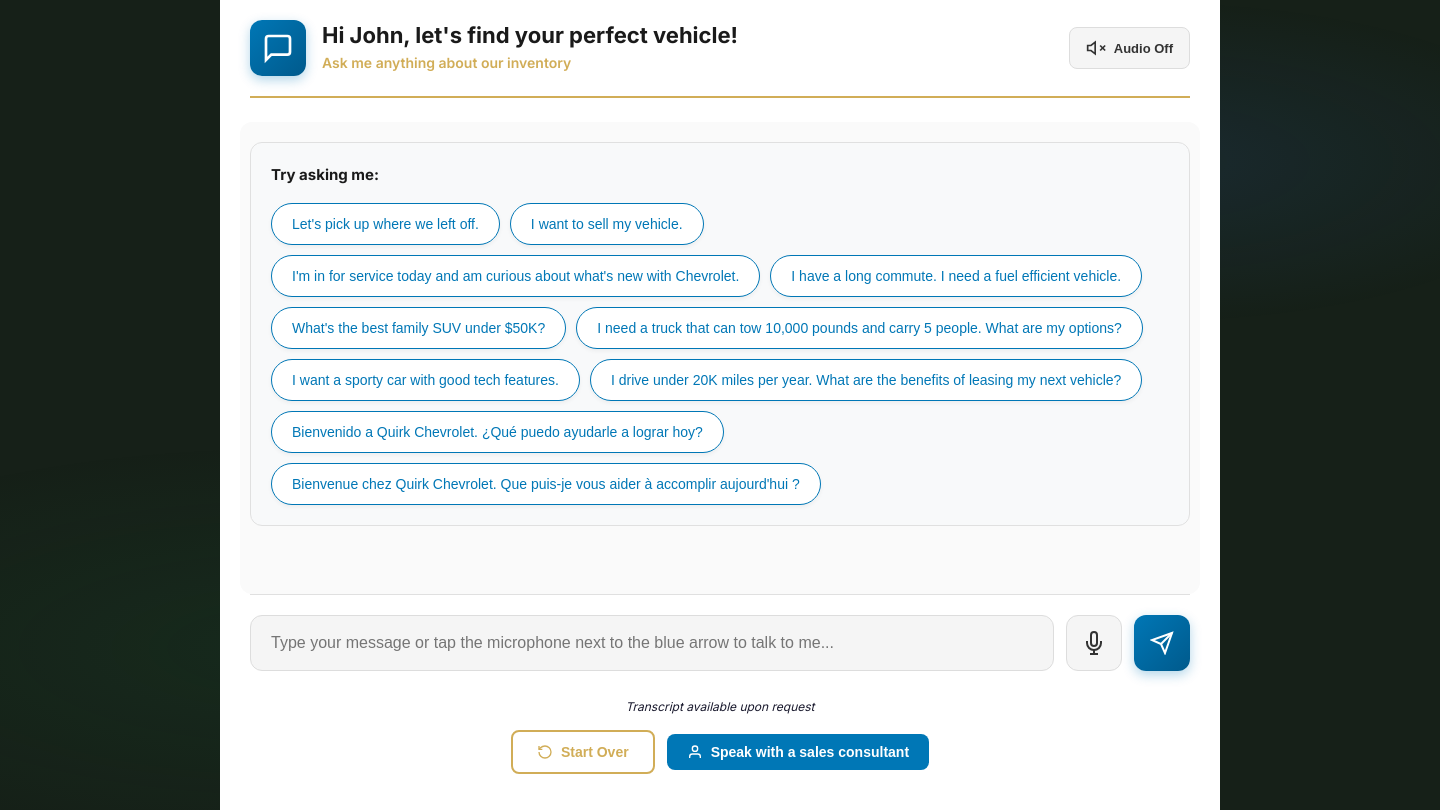
Test case: AIAssistant Component › Loading State › shows loading indicator while waiting for response
Replace the text in the field with placeholder "Type your message" with "Show me trucks": (652, 643) [250,615,1054,671]
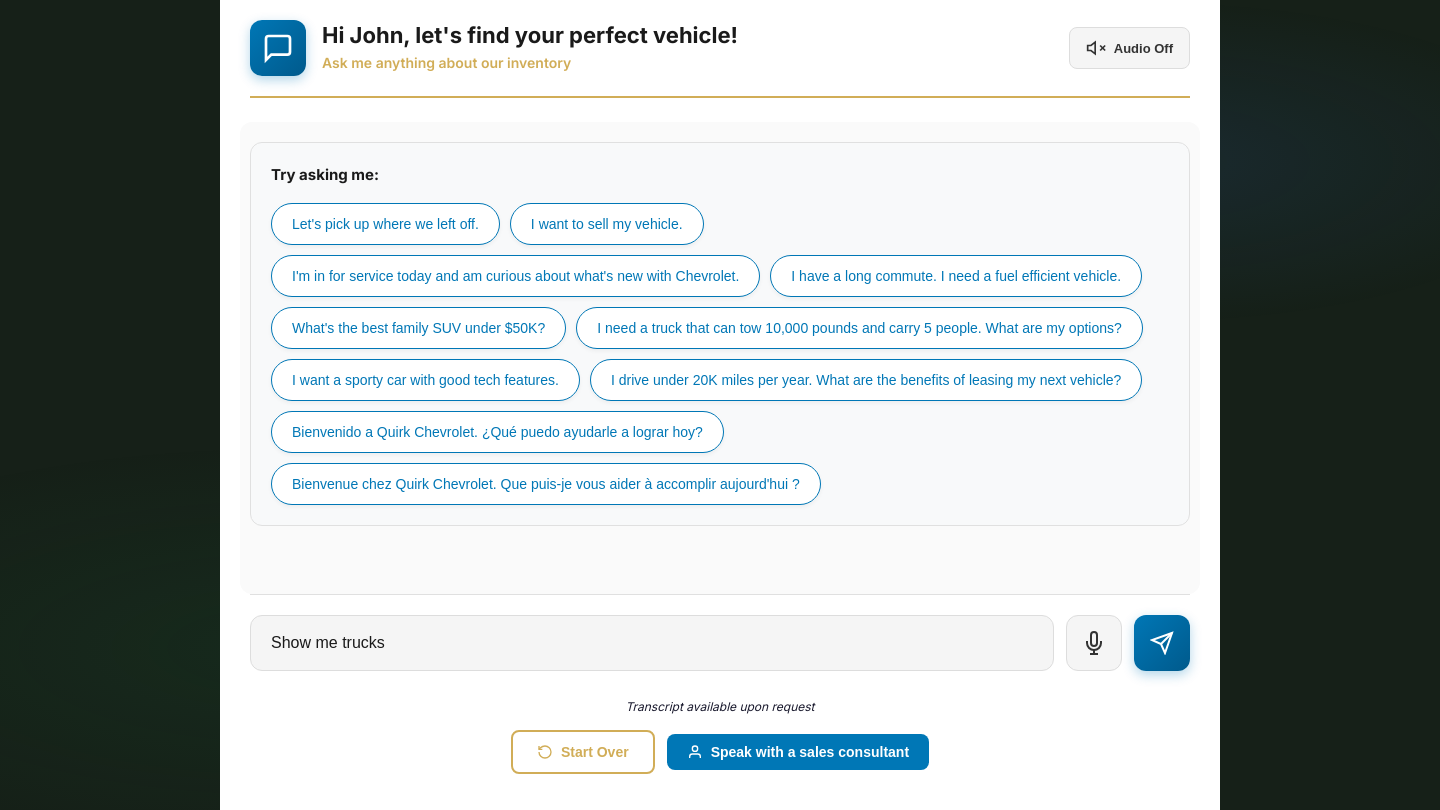
Press Enter in the field with placeholder "Type your message", box [250,615,1054,671]
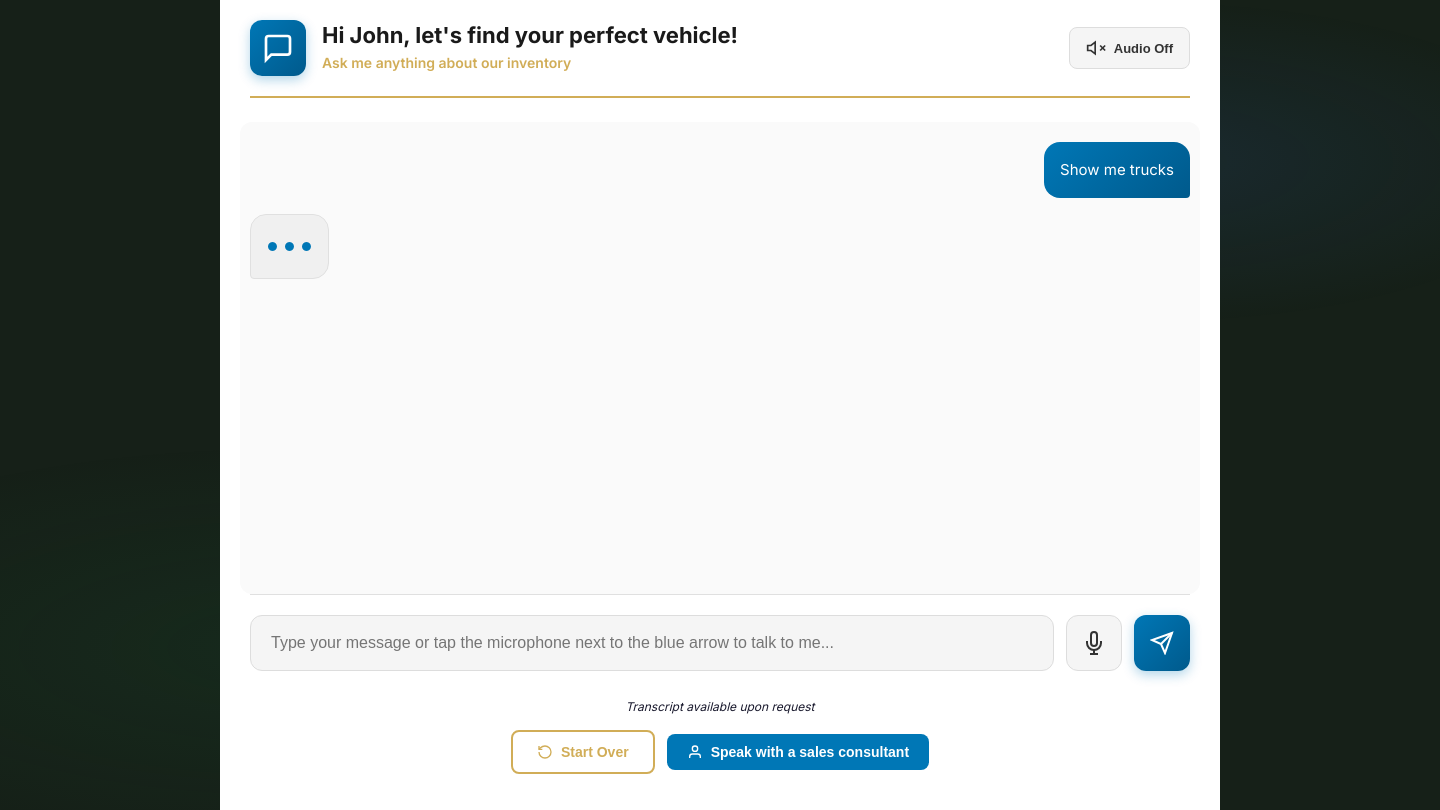
Expected: the 1st text "●" is shown, [267,239,278,254]
